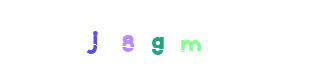8: (115, 0, 195, 80)
G: (117, 0, 197, 80)
J: (73, 0, 153, 80)
M: (146, 0, 226, 80)
